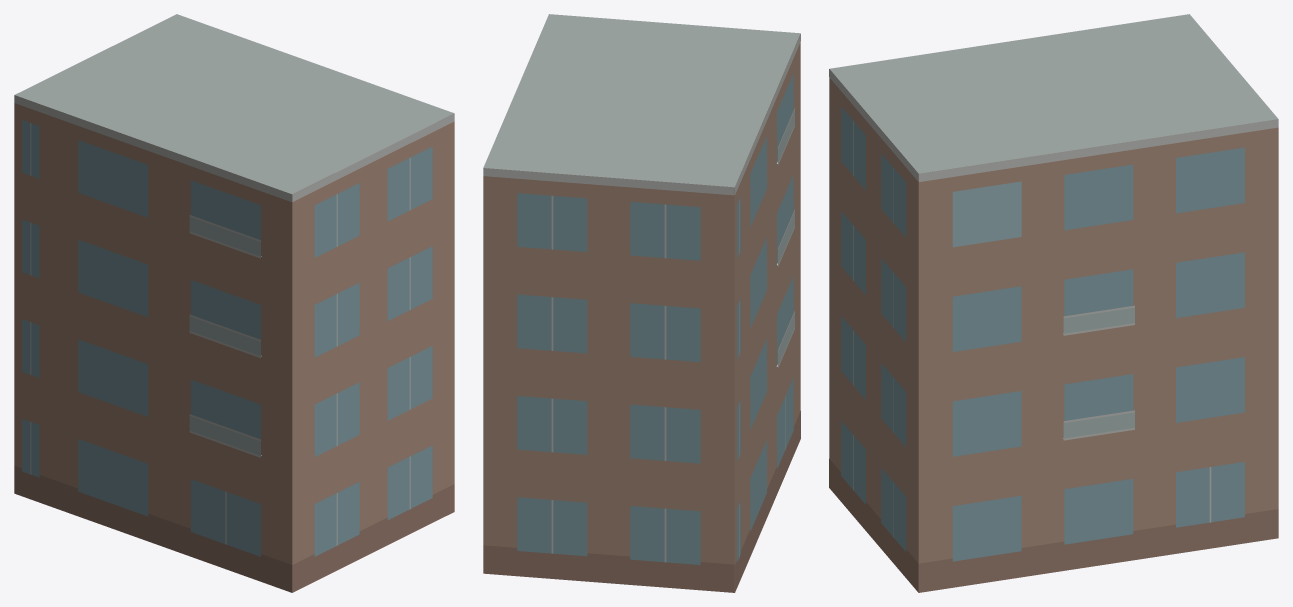
Rendered from residential-27c8410f-8adc-4145-9213-c89a2d4d0f60.glb.
3 renders of one model, left to right at view 1: azimuth 30°, elevation 25°; view 2: azimuth 150°, elevation 25°; view 3: azimuth 270°, elevation 25°, orthographic. The views are drawn at different scales.
Parts seen in each view (by area): view 1: residential-27c8410f-8adc-4145-9213-c89a2d4d0f60.tmp; view 2: residential-27c8410f-8adc-4145-9213-c89a2d4d0f60.tmp; view 3: residential-27c8410f-8adc-4145-9213-c89a2d4d0f60.tmp.
Boxes of the visible parts, bbox=[...] form: residential-27c8410f-8adc-4145-9213-c89a2d4d0f60.tmp: bbox=[14, 14, 454, 592]; residential-27c8410f-8adc-4145-9213-c89a2d4d0f60.tmp: bbox=[483, 14, 800, 592]; residential-27c8410f-8adc-4145-9213-c89a2d4d0f60.tmp: bbox=[829, 14, 1278, 592].
Bounding box in the file's own units: 9.99 × 12.2 × 11.87.
